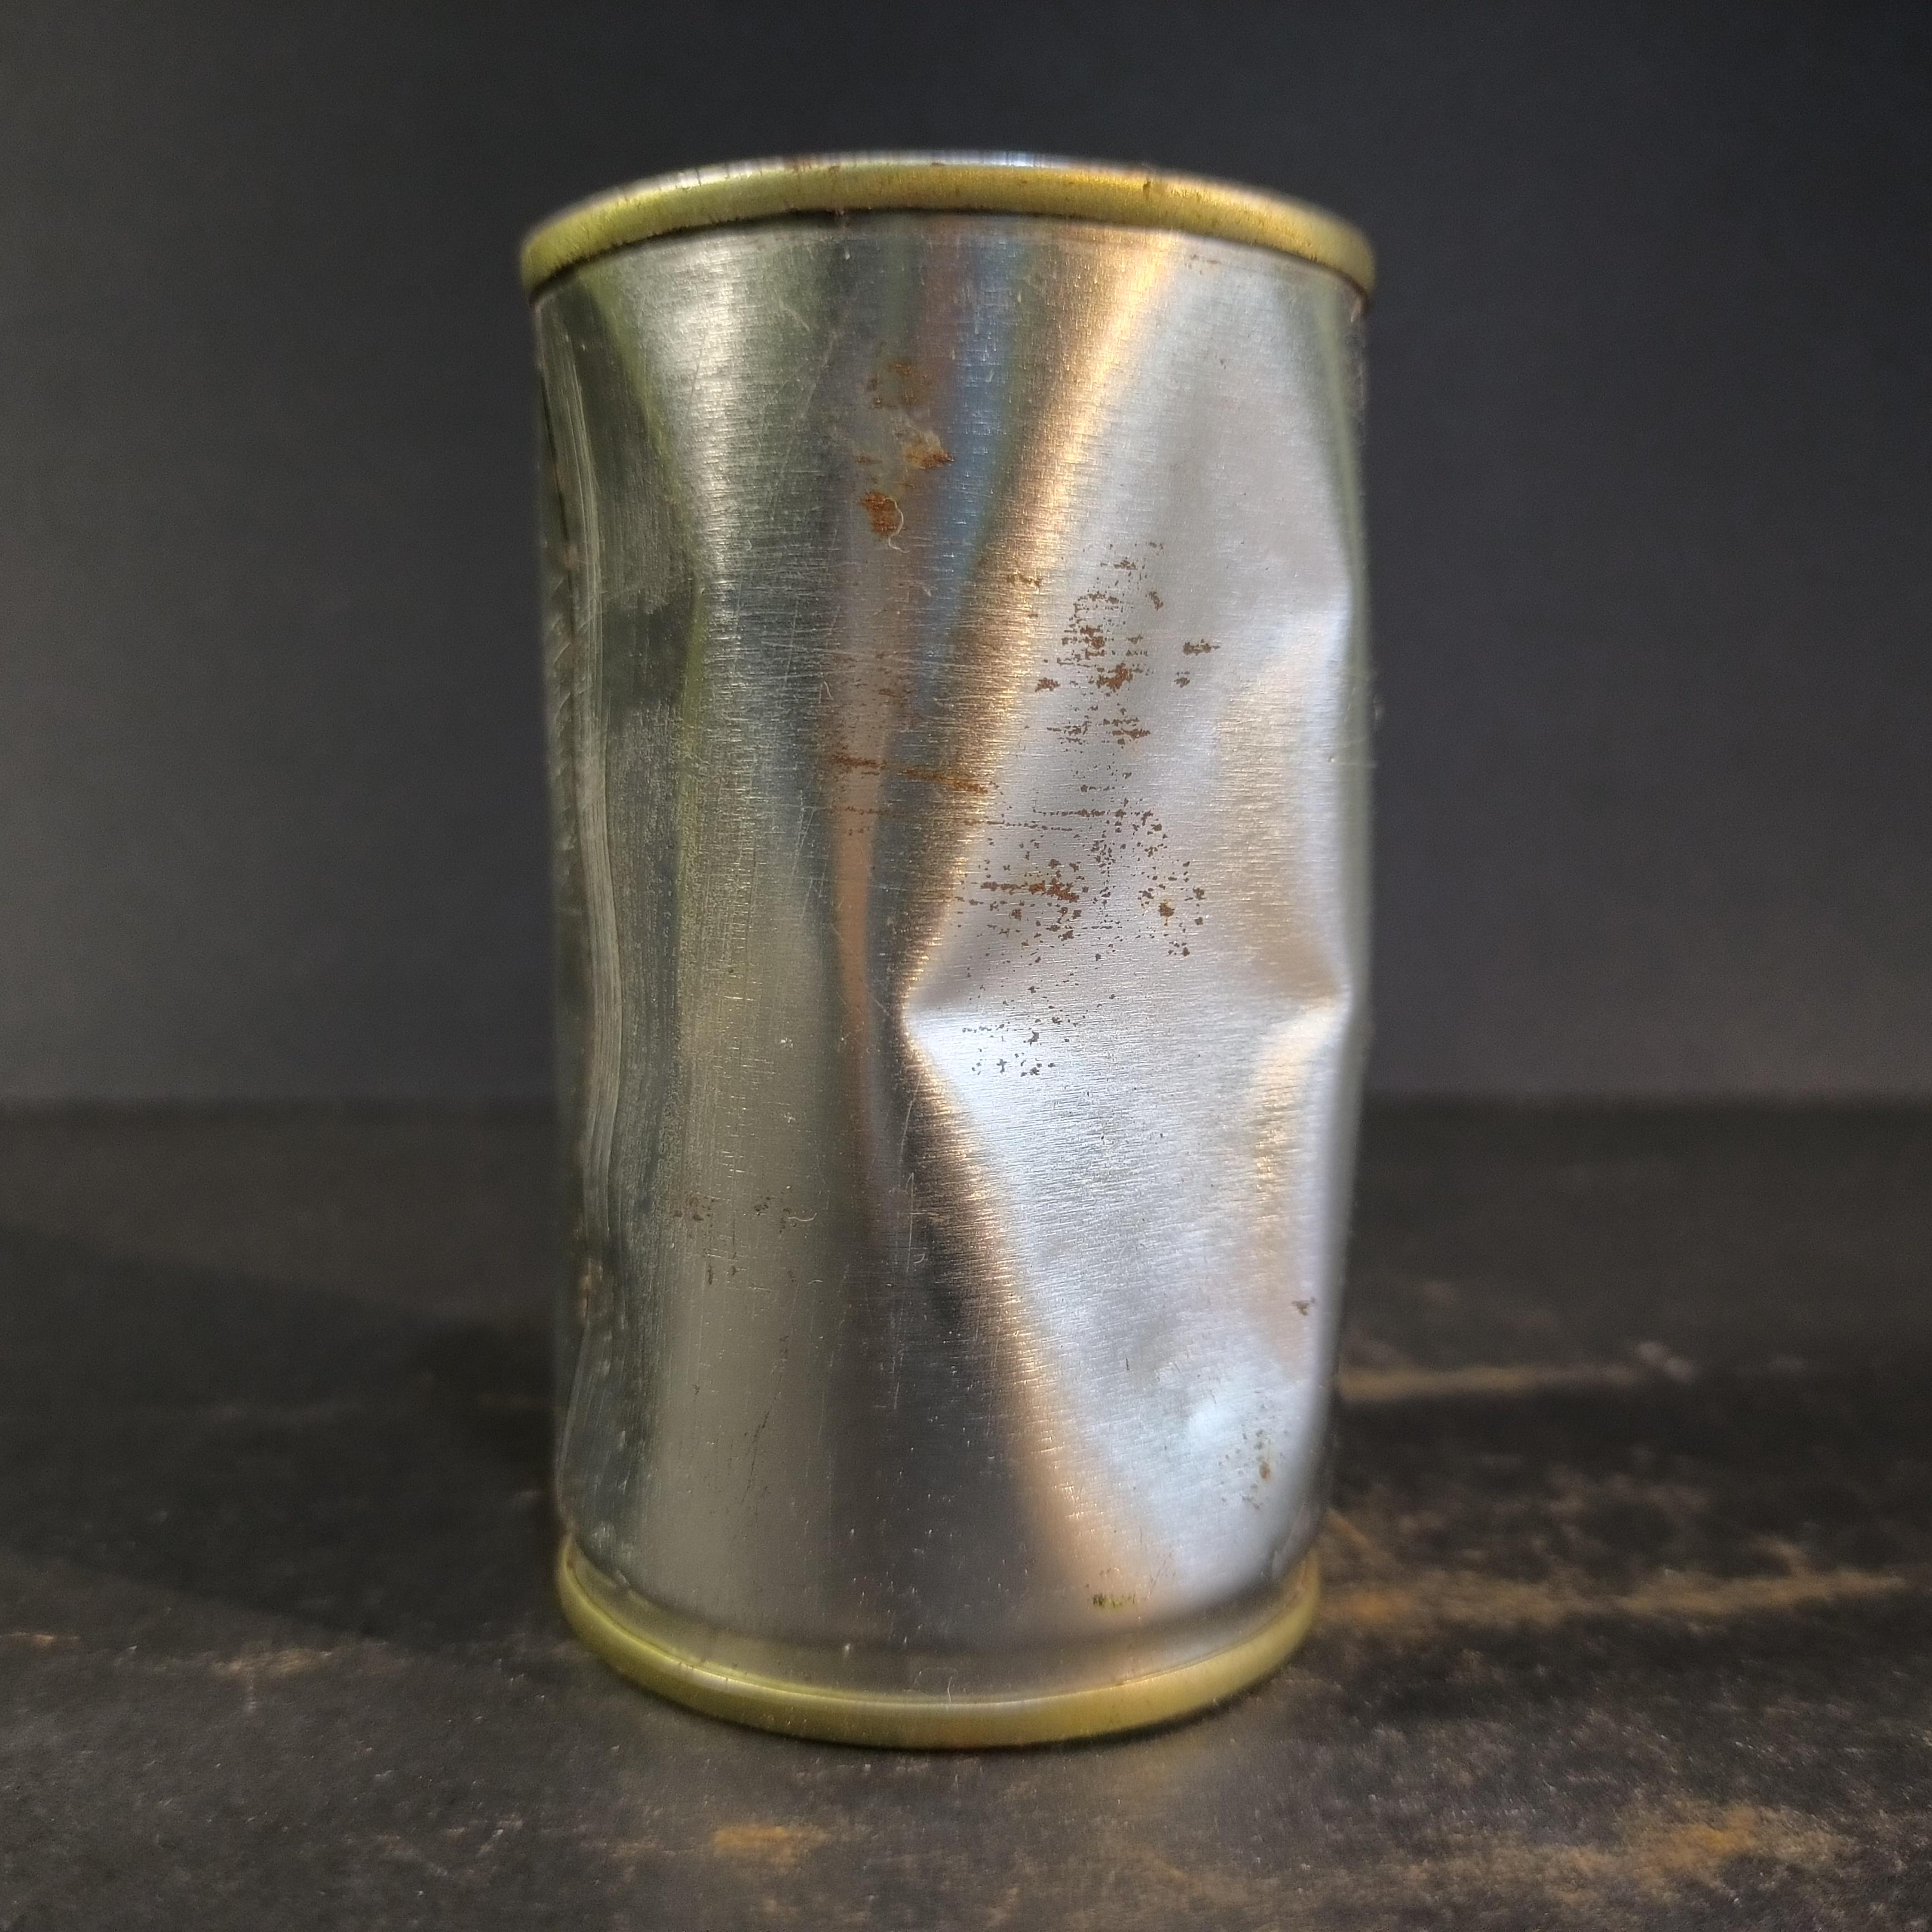Minor Defect: (522, 156, 1378, 1748)
